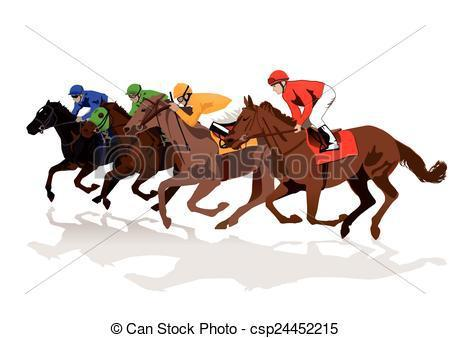horse: (213, 91, 446, 253), (116, 97, 277, 227), (79, 101, 174, 200), (20, 94, 101, 203)
person: (260, 66, 347, 153), (172, 82, 242, 144), (62, 83, 117, 125), (122, 80, 168, 120)
